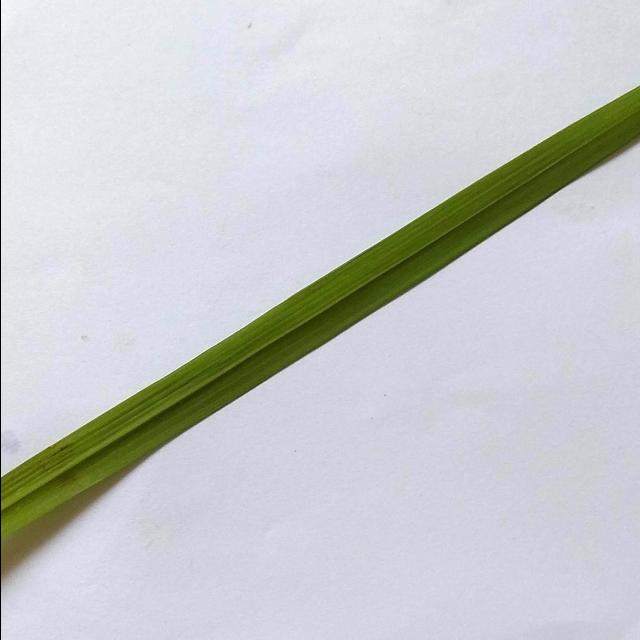healthy: (0, 62, 640, 559)
